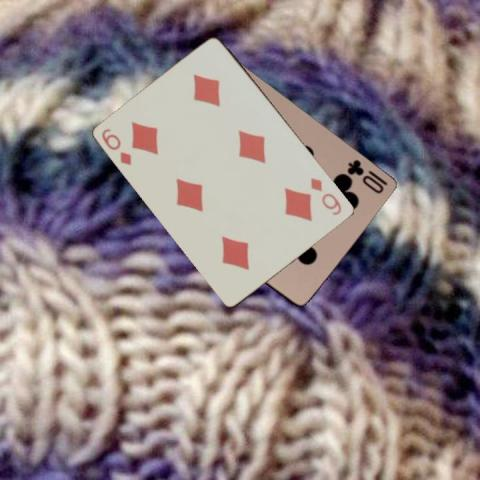10c: (343, 157, 389, 195)
6d: (307, 174, 344, 216), (99, 125, 134, 167)
